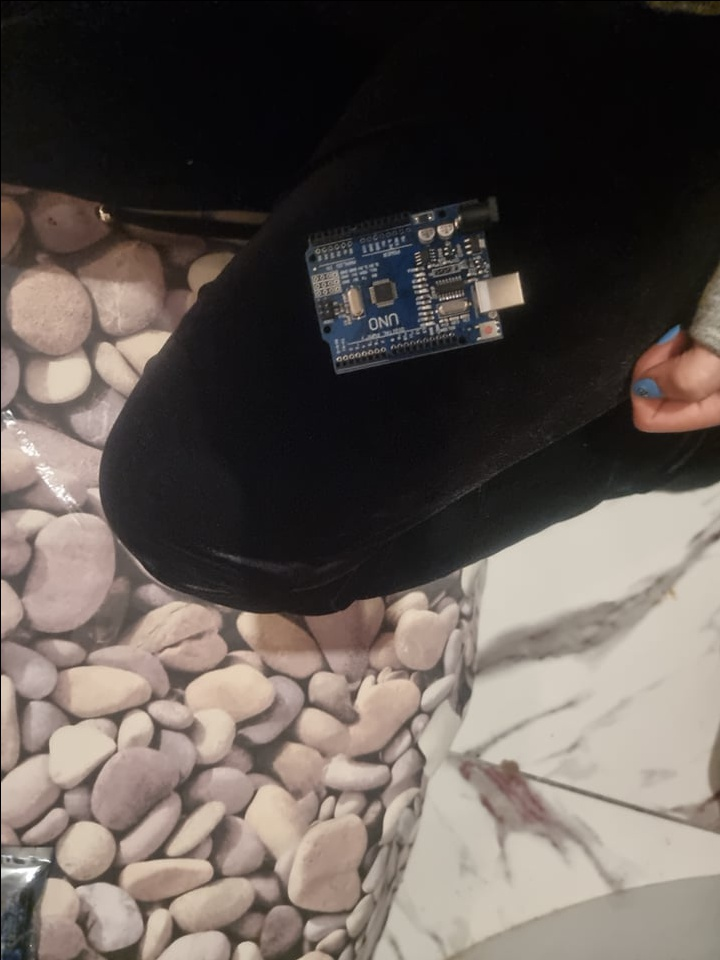5V EXPANSION: (307, 190, 522, 372)
